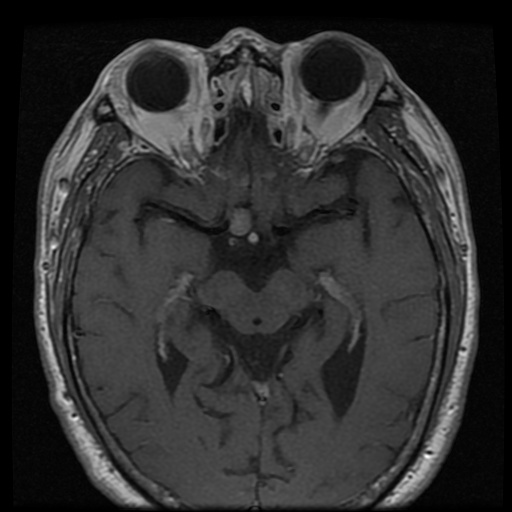pituitary: (230, 208, 252, 236)
